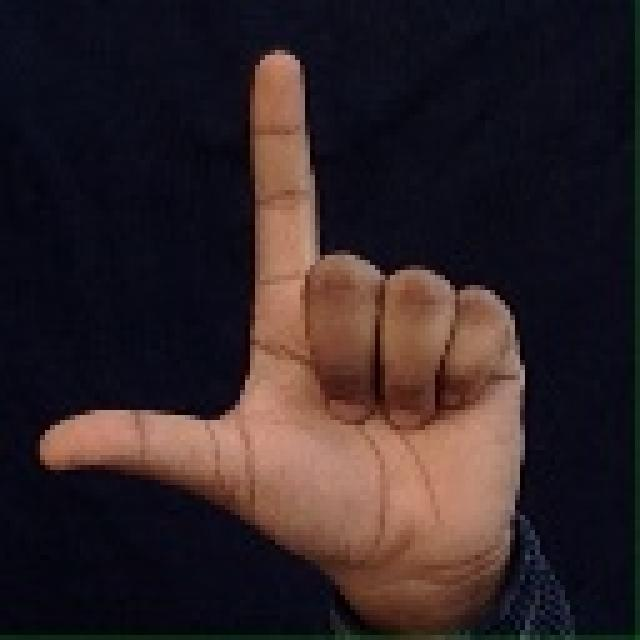Alphabet-L: (36, 40, 534, 607)
